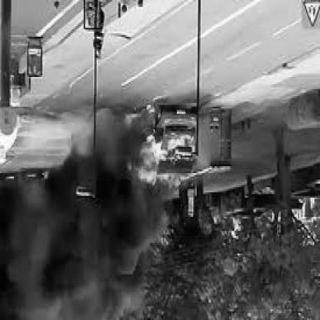Fire: (129, 134, 193, 198), (123, 112, 137, 132)
Smoke: (0, 202, 164, 320), (40, 112, 120, 196)
